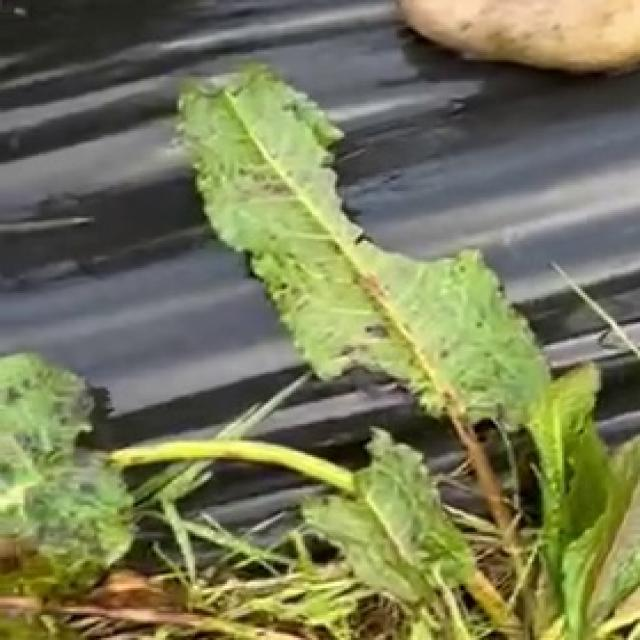organic waste: (121, 85, 640, 575)
